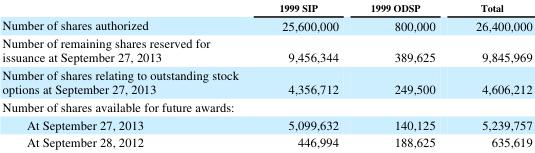table: (1, 0, 531, 149)
table column: (1, 0, 258, 149), (353, 0, 454, 149), (258, 0, 353, 149), (454, 0, 531, 149)
table column header: (1, 0, 531, 15)
table projected row header: (1, 97, 531, 114)
table row: (1, 33, 531, 65), (1, 65, 531, 97), (1, 15, 531, 33), (1, 114, 531, 132), (1, 97, 531, 114), (1, 132, 531, 149), (1, 0, 531, 15)
